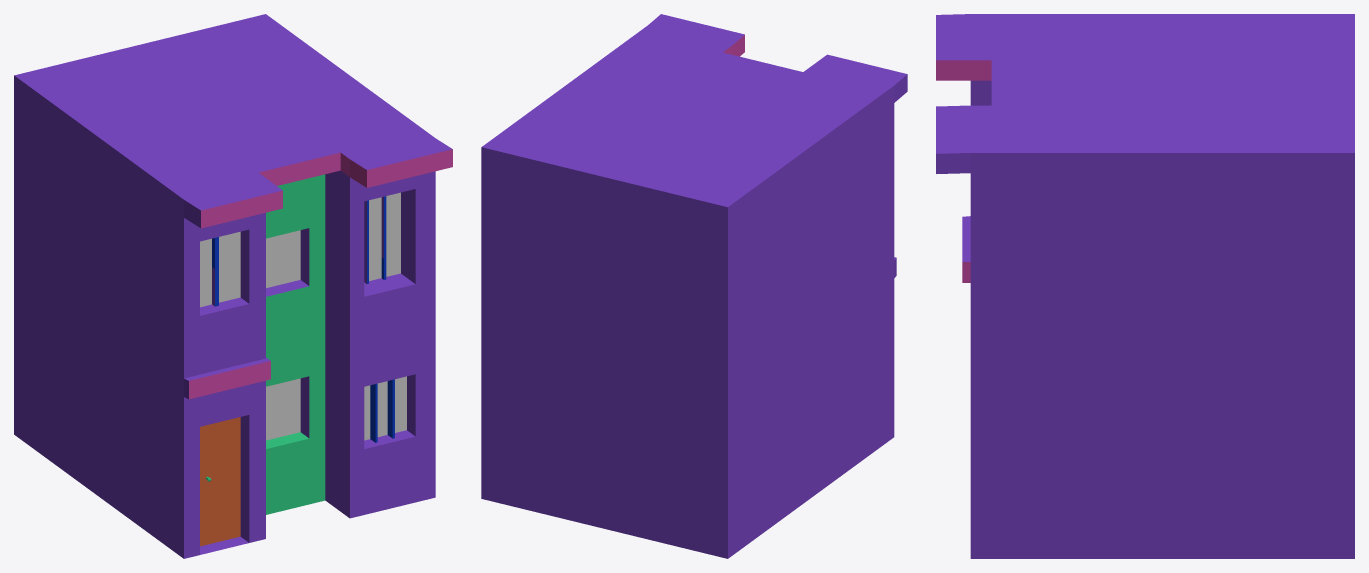
File: Casa_2.obj
3 renders of one model, left to right at view 1: azimuth 30°, elevation 25°; view 2: azimuth 150°, elevation 25°; view 3: azimuth 270°, elevation 25°, orthographic. The views are drawn at different scales.
Visible parts, largest first — view 1: Cube; view 2: Cube; view 3: Cube.
Boxes of the visible parts, left/top/right/bottom form: Cube: left=14, top=14, right=452, bottom=558; Cube: left=481, top=14, right=907, bottom=558; Cube: left=936, top=14, right=1354, bottom=558.
Size of the model in its own units: 22.15 by 30 by 28.04.
